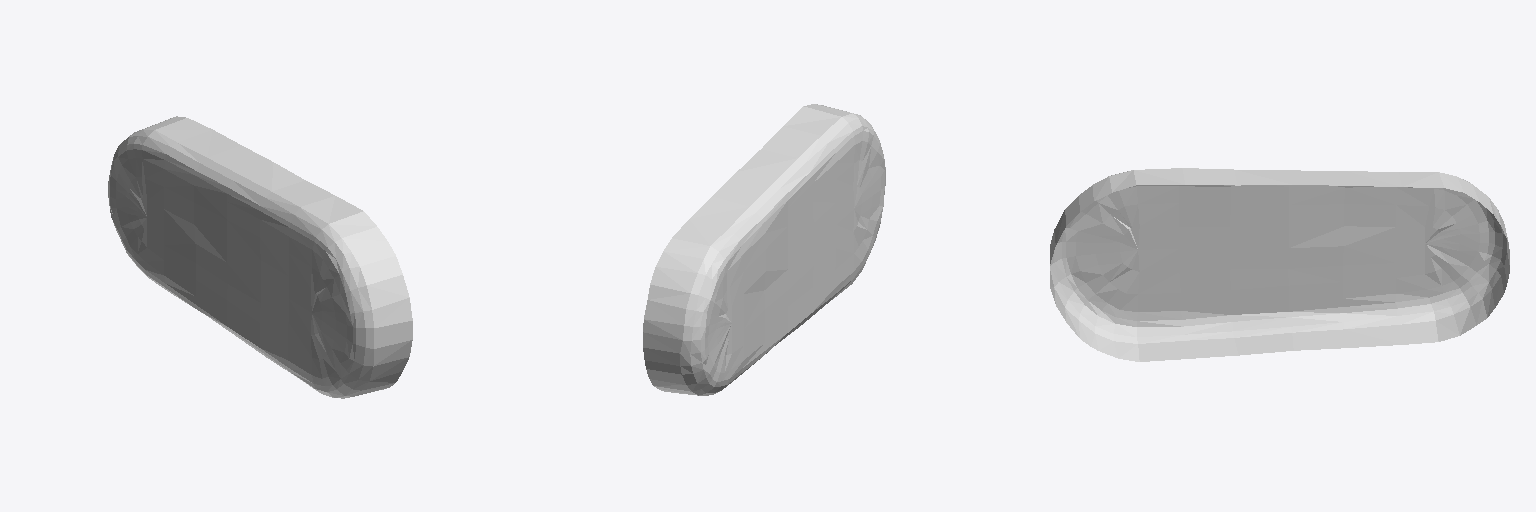
File: right_grip.obj
3 views of the same model, side by side, from view 1: azimuth 30°, elevation 25°; view 2: azimuth 150°, elevation 25°; view 3: azimuth 270°, elevation 25° (orthographic).
Visible parts, largest first — view 1: right_grip; view 2: right_grip; view 3: right_grip.
Part boxes in pixels (left/top/right/bottom): right_grip: left=108, top=116, right=412, bottom=398; right_grip: left=643, top=104, right=885, bottom=395; right_grip: left=1050, top=168, right=1509, bottom=361.
Bounding box in the file's own units: 0.0063 × 0.0128 × 0.0302.